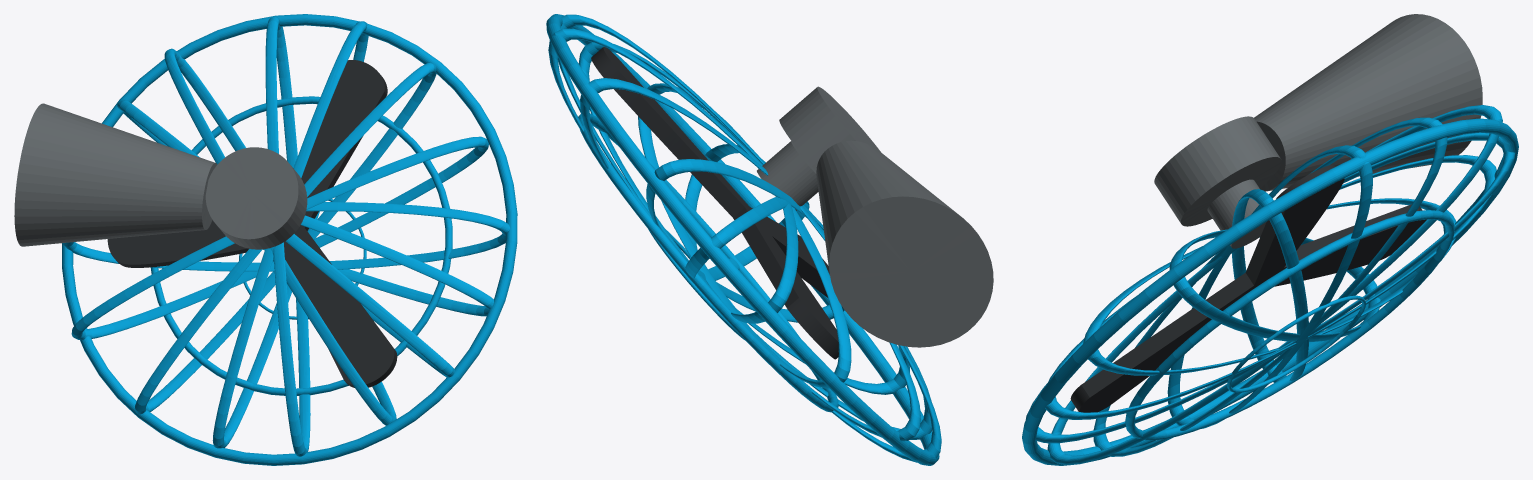
Rendered from fan_overhead.obj.
The picture shows the model from 3 angles, left to right: view 1: azimuth 30°, elevation 25°; view 2: azimuth 150°, elevation 25°; view 3: azimuth 270°, elevation 25°; orthographic projection. The views are drawn at different scales.
Visible parts, largest first — view 1: obj_0, obj_2, obj_1; view 2: obj_0, obj_2, obj_1; view 3: obj_0, obj_2, obj_1.
Part boxes in pixels (x1,y1,x2,y2): obj_0: (62, 14, 517, 465); obj_2: (14, 103, 307, 249); obj_1: (107, 60, 397, 387); obj_0: (546, 14, 941, 465); obj_2: (757, 86, 993, 347); obj_1: (591, 46, 838, 359); obj_0: (1022, 105, 1518, 465); obj_2: (1154, 14, 1482, 248); obj_1: (1070, 164, 1426, 412).
Bounding box in the file's own units: 6.19 × 4.85 × 5.27.
